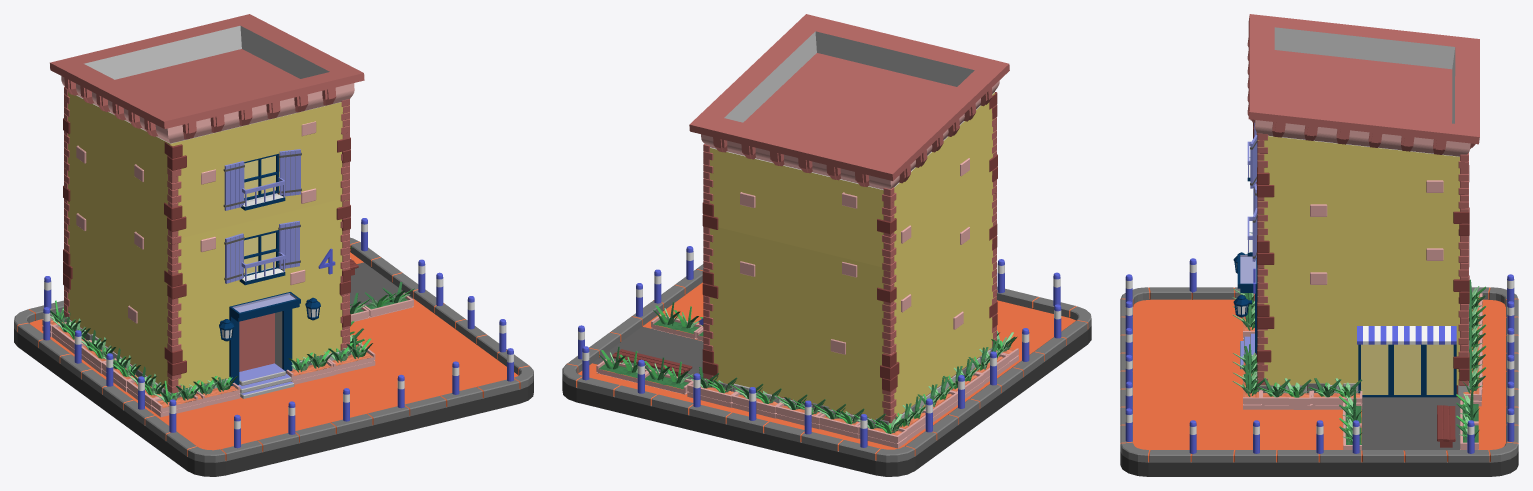
Rendered from lv2_house_2.fbx.
3 views of the same model, side by side, from view 1: azimuth 30°, elevation 25°; view 2: azimuth 150°, elevation 25°; view 3: azimuth 270°, elevation 25° (orthographic).
Visible parts, largest first — view 1: house_lv2_2, basehouse_lv2_2, fence_lv2_L_2; view 2: house_lv2_2, basehouse_lv2_2, fence_lv2_R_2, fence_lv2_L_2, bench_lv2_2; view 3: house_lv2_2, basehouse_lv2_2, fence_lv2_R_2, fence_lv2_L_2, bench_lv2_2.
Boxes of the visible parts, bbox=[...] form: house_lv2_2: bbox=[42, 14, 375, 417]; basehouse_lv2_2: bbox=[14, 218, 533, 476]; fence_lv2_L_2: bbox=[350, 282, 414, 321]; house_lv2_2: bbox=[686, 14, 1018, 448]; basehouse_lv2_2: bbox=[562, 246, 1091, 476]; fence_lv2_R_2: bbox=[596, 346, 692, 394]; fence_lv2_L_2: bbox=[651, 302, 703, 341]; bench_lv2_2: bbox=[612, 349, 692, 376]; house_lv2_2: bbox=[1232, 14, 1486, 409]; basehouse_lv2_2: bbox=[1120, 258, 1518, 476]; fence_lv2_R_2: bbox=[1456, 387, 1479, 449]; fence_lv2_L_2: bbox=[1339, 389, 1362, 450]; bench_lv2_2: bbox=[1437, 405, 1455, 447].
Size of the model in its own units: 3052 by 2602 by 3052.
